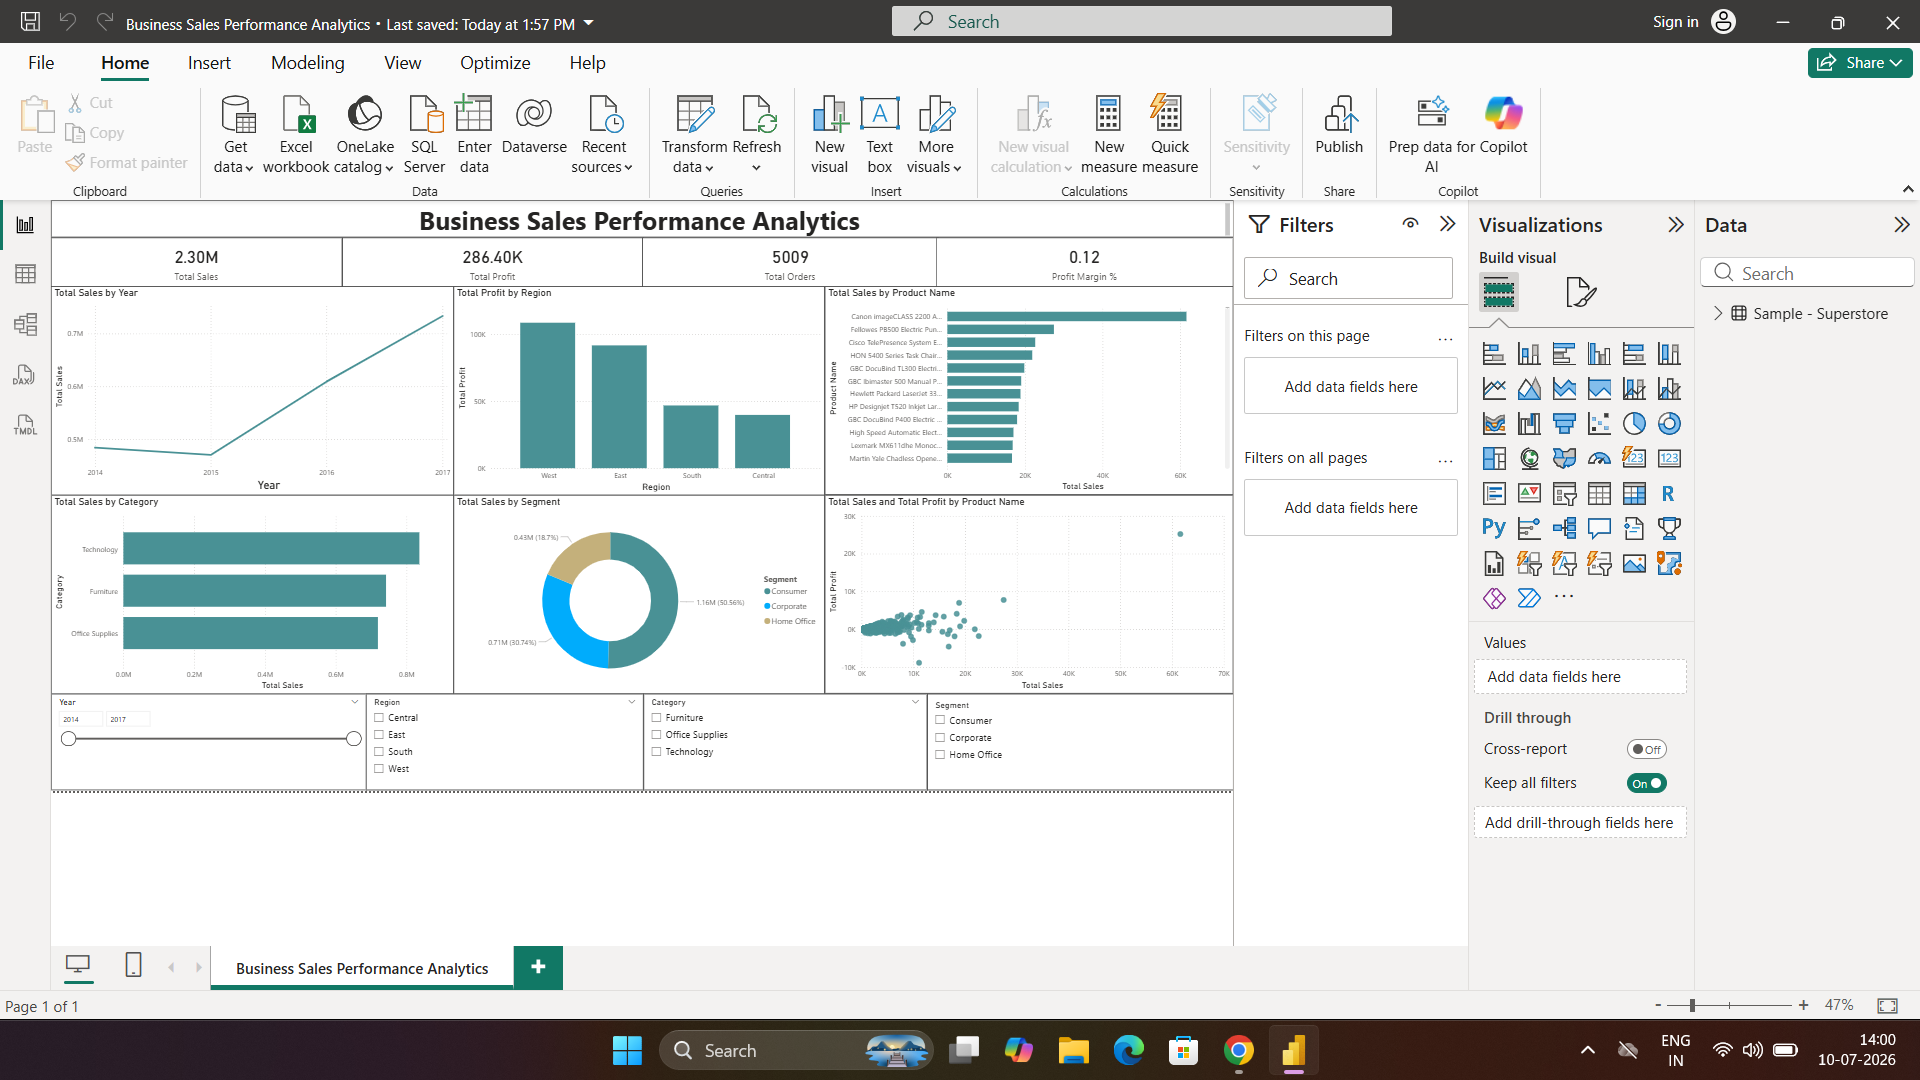

Layout of this report page (visuals, bound fields, positions):
{"tool":"powerbi","page":{"name":"Business Sales Performance Analytics","canvas":[2000,1000],"ordinal":0},"visuals":[{"type":"card","fields":{"Values":["Sample - Superstore.Total Sales"]},"box":[0,63.4,492.7,84.6],"z":0},{"type":"card","fields":{"Values":["Sample - Superstore.Total Profit"]},"box":[492.7,63.4,509.6,84.6],"z":1000},{"type":"card","fields":{"Values":["Sample - Superstore.Total Orders"]},"box":[1000.2,63.4,501.2,84.6],"z":2000},{"type":"card","fields":{"Values":["Sample - Superstore.Profit Margin %"]},"box":[1497.2,63.4,503.3,84.6],"z":3000},{"type":"lineChart","fields":{"Category":["Sample - Superstore.Order Date.Variation.Date Hierarchy.Year","Sample - Superstore.Order Date.Variation.Date Hierarchy.Quarter","Sample - Superstore.Order Date.Variation.Date Hierarchy.Month","Sample - Superstore.Order Date.Variation.Date Hierarchy.Day"],"Y":["Sample - Superstore.Total Sales"]},"box":[0,145.8,681.8,353.8],"z":4000},{"type":"clusteredBarChart","fields":{"Category":["Sample - Superstore.Category"],"Y":["Sample - Superstore.Total Sales"]},"box":[0,499.6,681.8,336.6],"z":5000},{"type":"clusteredColumnChart","fields":{"Category":["Sample - Superstore.Region"],"Y":["Sample - Superstore.Total Profit"]},"box":[681.8,145.8,628.2,353.8],"z":6000},{"type":"donutChart","fields":{"Category":["Sample - Superstore.Segment"],"Y":["Sample - Superstore.Total Sales"]},"box":[681.8,499.6,628.2,336.6],"z":7000},{"type":"clusteredBarChart","fields":{"Category":["Sample - Superstore.Product Name"],"Y":["Sample - Superstore.Total Sales"]},"box":[1308.9,145.9,691.5,353.1],"z":8000},{"type":"scatterChart","fields":{"Category":["Sample - Superstore.Product Name"],"X":["Sample - Superstore.Total Sales"],"Y":["Sample - Superstore.Total Profit"]},"box":[1308.9,499.1,691.5,336.2],"z":9000},{"type":"slicer","fields":{"Values":["Sample - Superstore.Year"]},"box":[0,836.2,533.9,163],"z":10000},{"type":"slicer","fields":{"Values":["Sample - Superstore.Region"]},"box":[532.9,835.3,469.4,162.8],"z":11000},{"type":"slicer","fields":{"Values":["Sample - Superstore.Category"]},"box":[1002.3,835.3,480,162.8],"z":12000},{"type":"slicer","fields":{"Values":["Sample - Superstore.Segment"]},"box":[1482.3,835.3,518.1,162.8],"z":13000},{"type":"textbox","box":[0,0,2000.4,63.4],"z":14000}]}

Visuals, with their boxes on the page's 2000x1000 design canvas (x1, y1, x2, y2). These are canvas units, not pixel positions in the 1920x1080 screenshot, which may show the page scaled, cropped or inside an application window:
card - Sample - Superstore.Total Sales: (left=0, top=63, right=493, bottom=148)
card - Sample - Superstore.Total Profit: (left=493, top=63, right=1002, bottom=148)
card - Sample - Superstore.Total Orders: (left=1000, top=63, right=1501, bottom=148)
card - Sample - Superstore.Profit Margin %: (left=1497, top=63, right=2000, bottom=148)
lineChart - Sample - Superstore.Order Date.Variation.Date Hierarchy.Year x Sample - Superstore.Order Date.Variation.Date Hierarchy.Quarter: (left=0, top=146, right=682, bottom=500)
clusteredBarChart - Sample - Superstore.Category x Sample - Superstore.Total Sales: (left=0, top=500, right=682, bottom=836)
clusteredColumnChart - Sample - Superstore.Region x Sample - Superstore.Total Profit: (left=682, top=146, right=1310, bottom=500)
donutChart - Sample - Superstore.Segment x Sample - Superstore.Total Sales: (left=682, top=500, right=1310, bottom=836)
clusteredBarChart - Sample - Superstore.Product Name x Sample - Superstore.Total Sales: (left=1309, top=146, right=2000, bottom=499)
scatterChart - Sample - Superstore.Product Name x Sample - Superstore.Total Sales: (left=1309, top=499, right=2000, bottom=835)
slicer - Sample - Superstore.Year: (left=0, top=836, right=534, bottom=999)
slicer - Sample - Superstore.Region: (left=533, top=835, right=1002, bottom=998)
slicer - Sample - Superstore.Category: (left=1002, top=835, right=1482, bottom=998)
slicer - Sample - Superstore.Segment: (left=1482, top=835, right=2000, bottom=998)
textbox: (left=0, top=0, right=2000, bottom=63)
